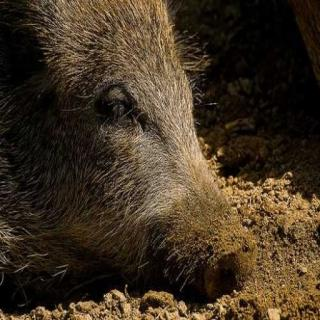Pig: (1, 1, 273, 320)
